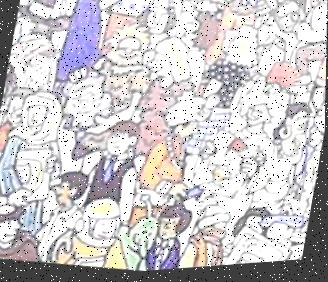waldo: (12, 37, 60, 92)
